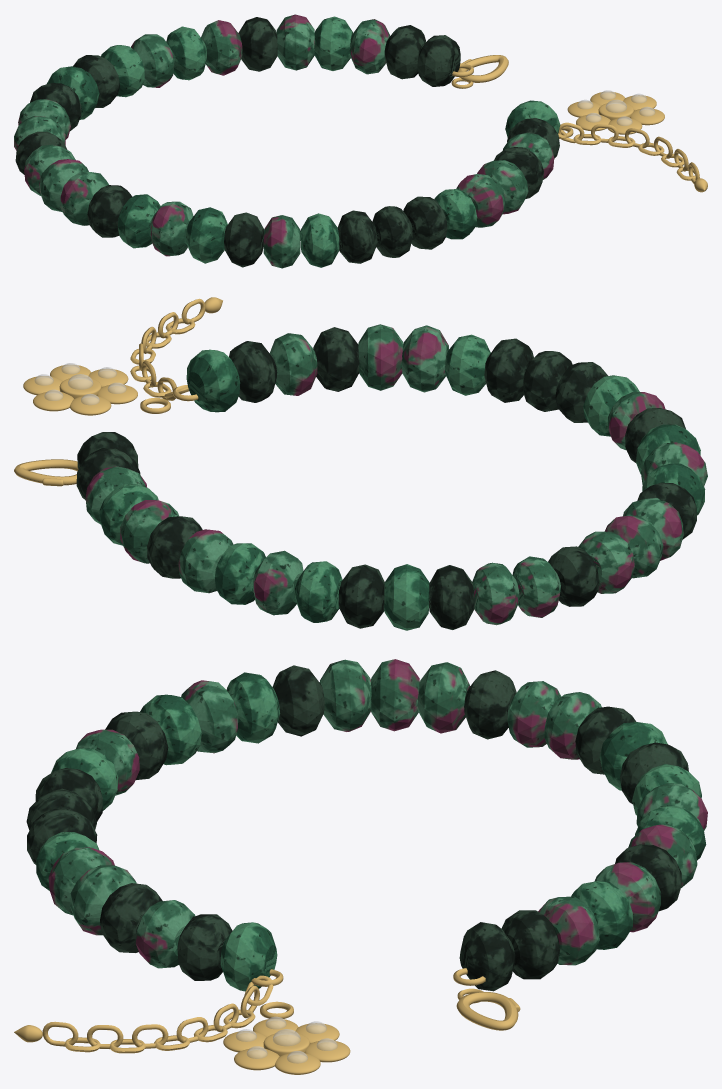
The model's file is standard.glb.
3 renders of one model, top to bottom at view 1: azimuth 30°, elevation 25°; view 2: azimuth 150°, elevation 25°; view 3: azimuth 270°, elevation 25°, orthographic. The views are drawn at different scales.
Visible parts, largest first — view 1: facet_rondel_1.004, facet_rondel_2.004, facet_rondel_0, facet_rondel_4, facet_rondel_3.004, facet_rondel_1.001, facet_rondel_3.005, facet_rondel_0.005, facet_rondel_2, facet_rondel_0.001, facet_rondel_1.005, facet_rondel_3 (+29 smaller); view 2: facet_rondel_0.007, facet_rondel_1.002, facet_rondel_0.006, facet_rondel_3.001, facet_rondel_1.006, facet_rondel_0.002, facet_rondel_2.002, facet_rondel_2.006, facet_rondel_3.002, facet_rondel_4.001, facet_rondel_3.005, facet_rondel_1.001 (+30 smaller); view 3: facet_rondel_3.003, facet_rondel_1, facet_rondel_2.003, facet_rondel_0.007, facet_rondel_1.003, facet_rondel_0, facet_rondel_4.003, facet_rondel_2, facet_rondel_1.004, facet_rondel_4.006, facet_rondel_3.006, facet_rondel_0.004 (+30 smaller).
Boxes of the visible parts, x1=… form: facet_rondel_1.004: x1=150, y1=201, x2=193, y2=256; facet_rondel_2.004: x1=186, y1=207, x2=227, y2=263; facet_rondel_0: x1=417, y1=35, x2=460, y2=86; facet_rondel_4: x1=276, y1=14, x2=314, y2=70; facet_rondel_3.004: x1=224, y1=212, x2=263, y2=267; facet_rondel_1.001: x1=201, y1=20, x2=242, y2=75; facet_rondel_3.005: x1=403, y1=196, x2=447, y2=249; facet_rondel_0.005: x1=300, y1=213, x2=339, y2=267; facet_rondel_2: x1=349, y1=19, x2=390, y2=74; facet_rondel_0.001: x1=238, y1=17, x2=277, y2=71; facet_rondel_1.005: x1=337, y1=210, x2=377, y2=263; facet_rondel_3: x1=314, y1=16, x2=352, y2=70; facet_rondel_0.007: x1=186, y1=349, x2=240, y2=412; facet_rondel_1.002: x1=384, y1=564, x2=429, y2=630; facet_rondel_0.006: x1=402, y1=325, x2=448, y2=392; facet_rondel_3.001: x1=253, y1=550, x2=303, y2=615; facet_rondel_1.006: x1=358, y1=324, x2=403, y2=390; facet_rondel_0.002: x1=338, y1=564, x2=384, y2=628; facet_rondel_2.002: x1=429, y1=565, x2=474, y2=629; facet_rondel_2.006: x1=313, y1=327, x2=359, y2=391; facet_rondel_3.002: x1=472, y1=562, x2=519, y2=625; facet_rondel_4.001: x1=294, y1=561, x2=342, y2=622; facet_rondel_3.005: x1=484, y1=338, x2=533, y2=402; facet_rondel_1.001: x1=178, y1=529, x2=233, y2=593; facet_rondel_3.003: x1=319, y1=659, x2=371, y2=731; facet_rondel_1: x1=501, y1=910, x2=559, y2=979; facet_rondel_2.003: x1=371, y1=659, x2=419, y2=731; facet_rondel_0.007: x1=220, y1=922, x2=277, y2=991; facet_rondel_1.003: x1=417, y1=662, x2=470, y2=733; facet_rondel_0: x1=459, y1=922, x2=515, y2=991; facet_rondel_4.003: x1=272, y1=665, x2=324, y2=736; facet_rondel_2: x1=538, y1=896, x2=599, y2=965; facet_rondel_1.004: x1=181, y1=680, x2=238, y2=753; facet_rondel_4.006: x1=177, y1=914, x2=232, y2=980; facet_rondel_3.006: x1=135, y1=900, x2=195, y2=968; facet_rondel_0.004: x1=226, y1=672, x2=280, y2=743.
Bounding box in the file's own units: 7.46 × 0.656 × 5.98.
5 materials, 4 textured.
